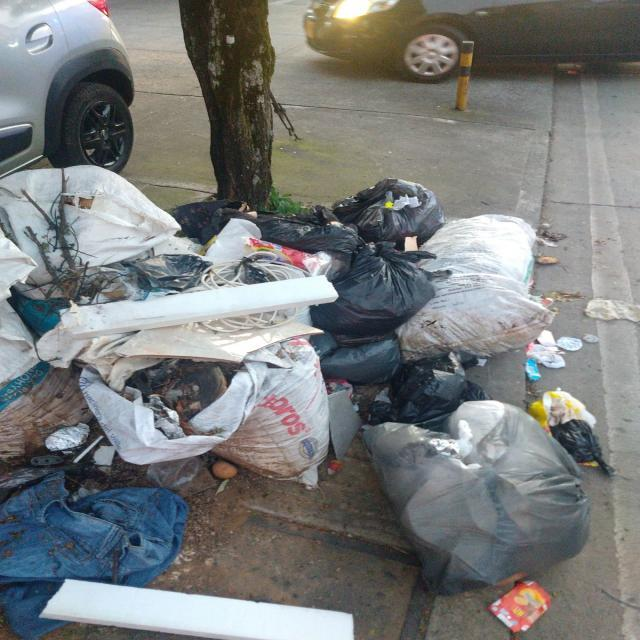high trash: (0, 166, 611, 640)
